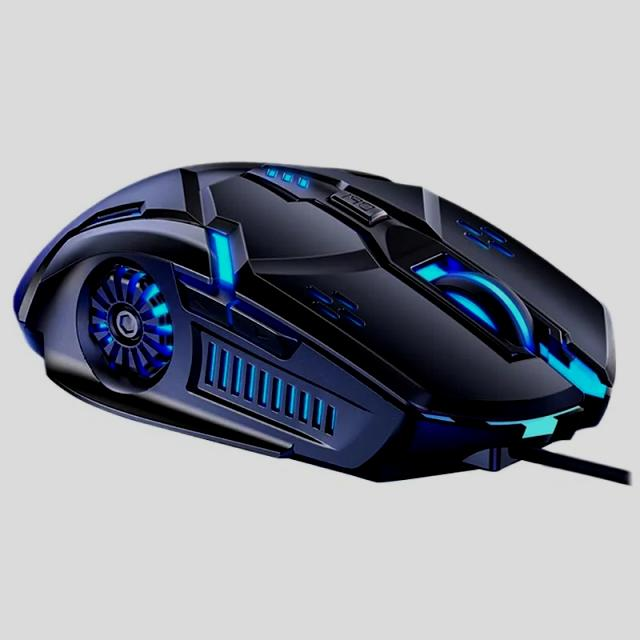souris: (1, 152, 640, 491)
